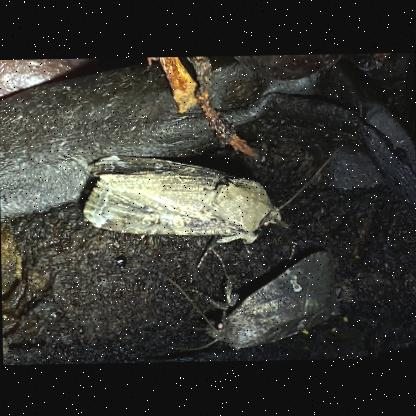Fall Armyworm Moth: (78, 146, 342, 272), (168, 244, 348, 356)
